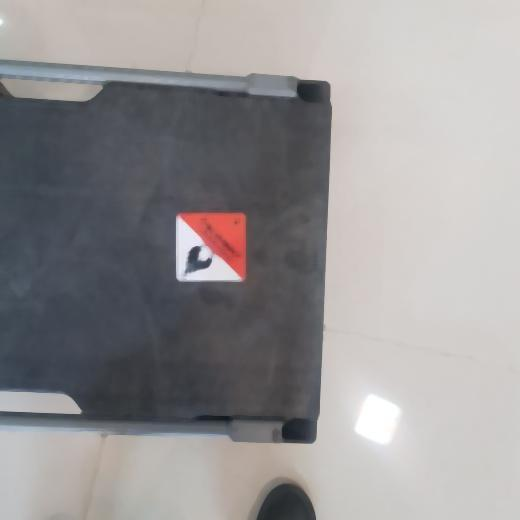spontaneously-combustible: (174, 210, 248, 283)
